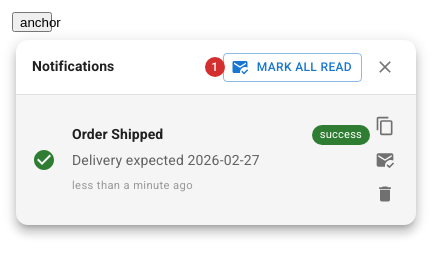
NotificationPanel copy button › copies notification message to clipboard and shows check icon
Click the button with test id "ContentCopyIcon".
click(385, 126)  # box [370,111,400,141]
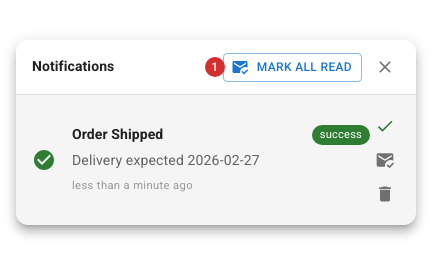
Now the icon with test id "CheckIcon" is shown, box [375,116,395,136]
